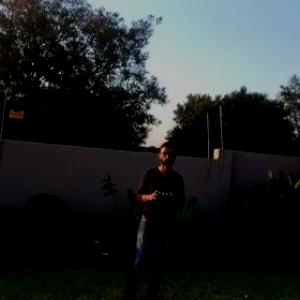follow: (112, 138, 190, 299)
